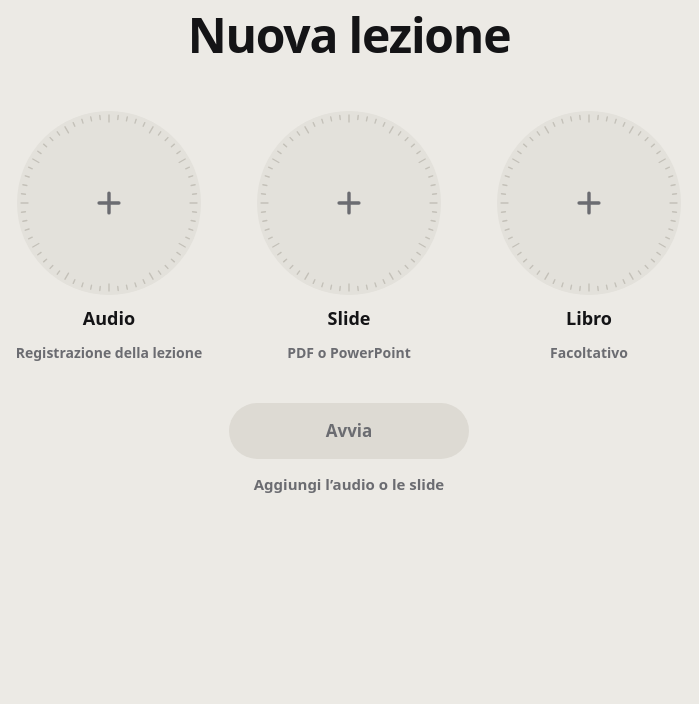
Test: LessonComposer › builds an audio lesson with slides, book chapter, name and course
Click the button named "Aggiungi audio". click: (109, 203)
box: [17, 111, 201, 295]
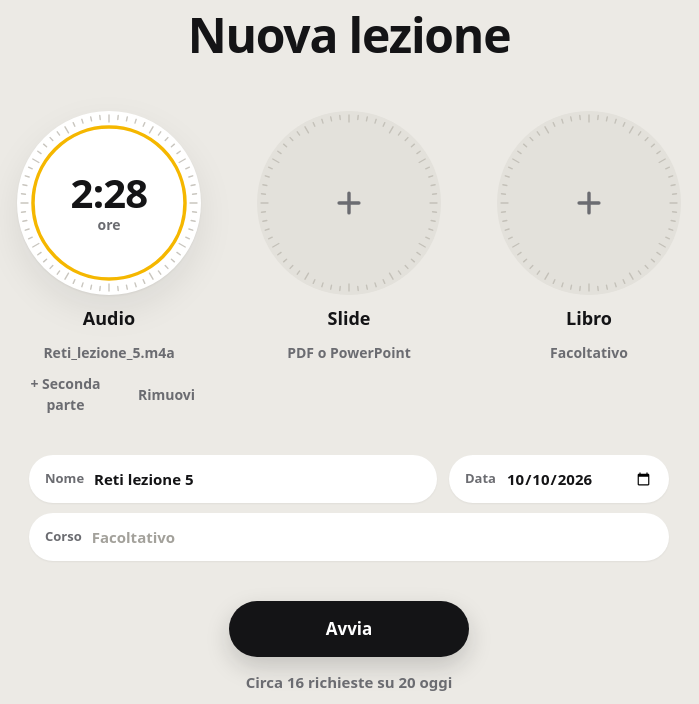
Click the button named "Aggiungi slide". click: (349, 203)
box: [257, 111, 441, 295]
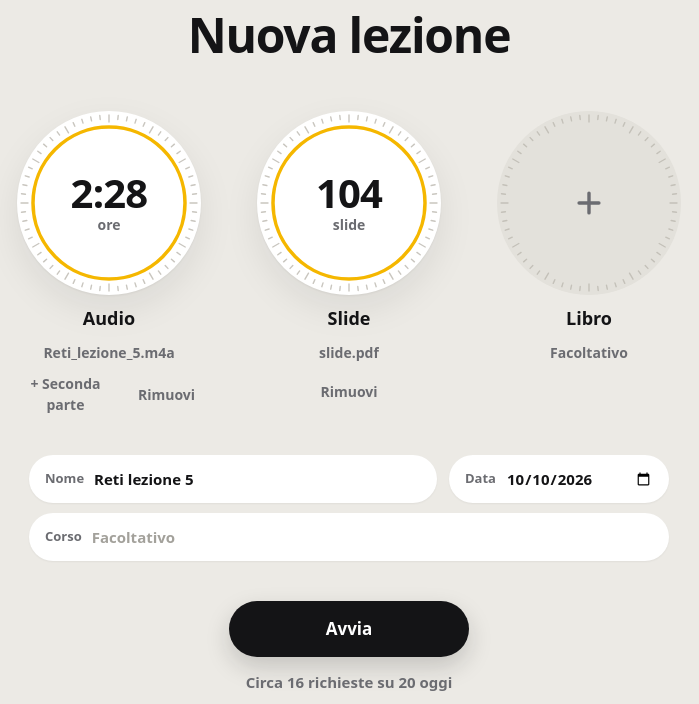
Click the button named "Aggiungi libro, facoltativo". click: (589, 203)
box: [497, 111, 681, 295]
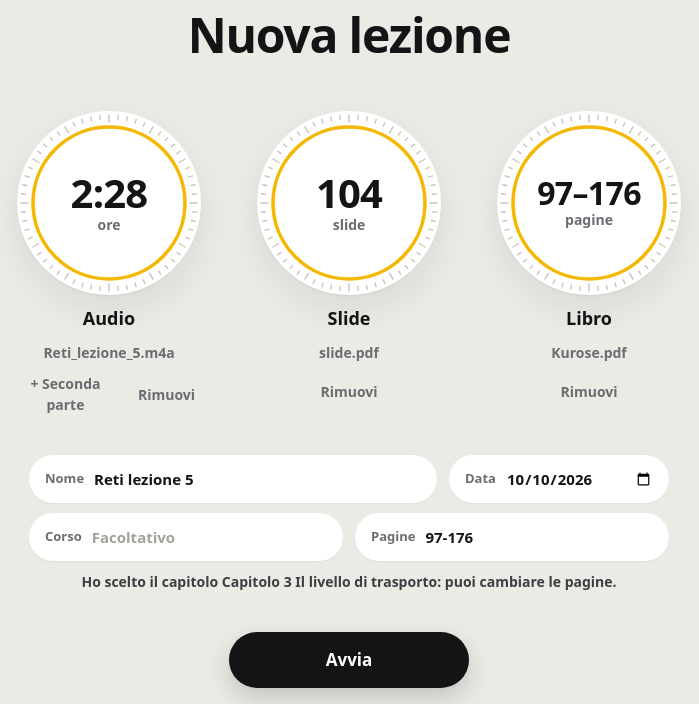
Check: the text "2:28" is shown, box [71, 172, 147, 214]
Check: the field named "Nome della lezione" holds "Reti lezione 5", box [94, 468, 421, 490]
Check: the field named "Pagine del libro" holds "97-176"
Replace the text in the field named "Pagine del libro" with "100-120". click: (539, 537)
box: [425, 526, 653, 548]
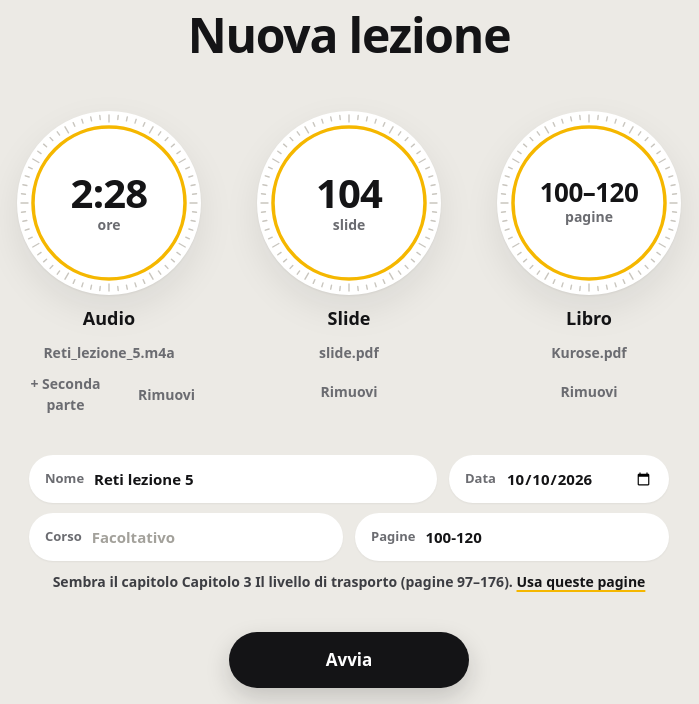
Click the button "Usa queste pagine". click: (581, 582)
box: [516, 571, 645, 592]
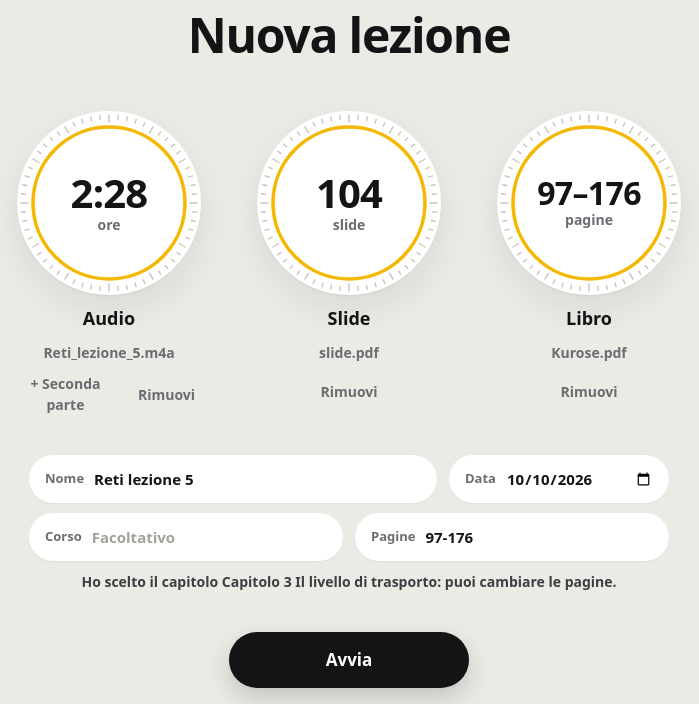
Check: the field named "Pagine del libro" holds "97-176", box [425, 526, 653, 548]
Type "Reti di calcolatori" into the field labelled "Corso". click: (209, 537)
box: [92, 526, 327, 548]
Click the button "Avvia". click: (349, 660)
box: [229, 632, 469, 688]
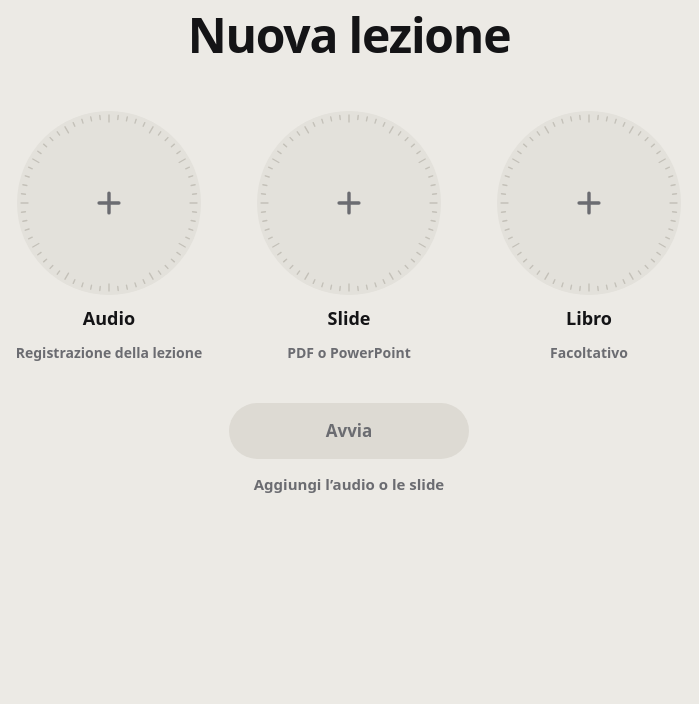
Check: the button named "Aggiungi audio" is shown, box [17, 111, 201, 295]
